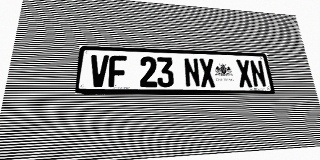2: (140, 56, 157, 87)
3: (157, 57, 174, 87)
F: (108, 55, 127, 87)
N: (183, 58, 201, 87), (249, 60, 267, 87)
V: (89, 55, 109, 87)
X: (235, 59, 253, 87), (199, 58, 216, 87)
